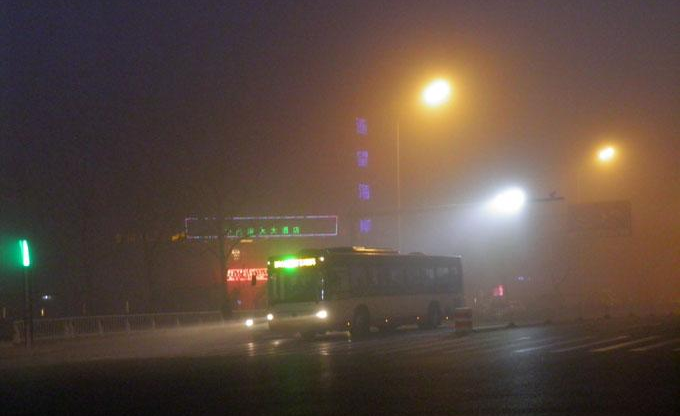bus: (264, 247, 467, 338)
